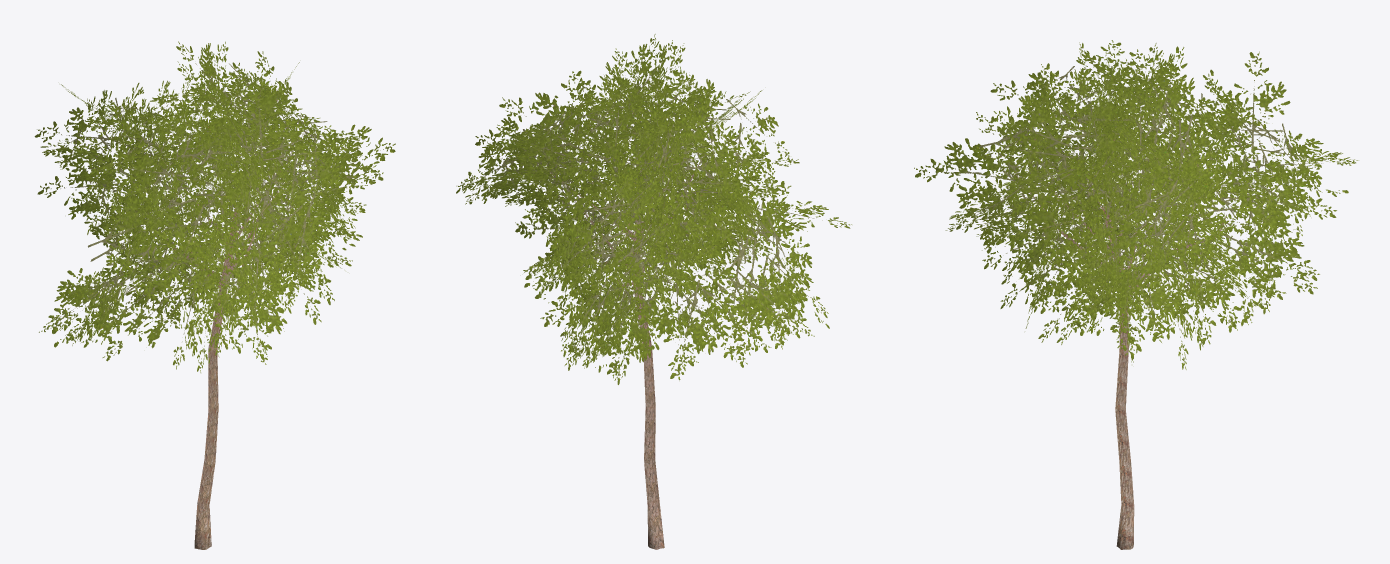
Rendered from tree7.fbx.
3 renders of one model, left to right at view 1: azimuth 30°, elevation 25°; view 2: azimuth 150°, elevation 25°; view 3: azimuth 270°, elevation 25°, orthographic. The views are drawn at different scales.
Parts seen in each view (by area): view 1: Tree_LOD0; view 2: Tree_LOD0; view 3: Tree_LOD0.
Boxes of the visible parts, x1,y1,x2,y2 form: Tree_LOD0: [34, 41, 395, 549]; Tree_LOD0: [456, 34, 851, 549]; Tree_LOD0: [914, 40, 1358, 549].
Size of what is drawn, in the model's own units: 648 by 821 by 680.
